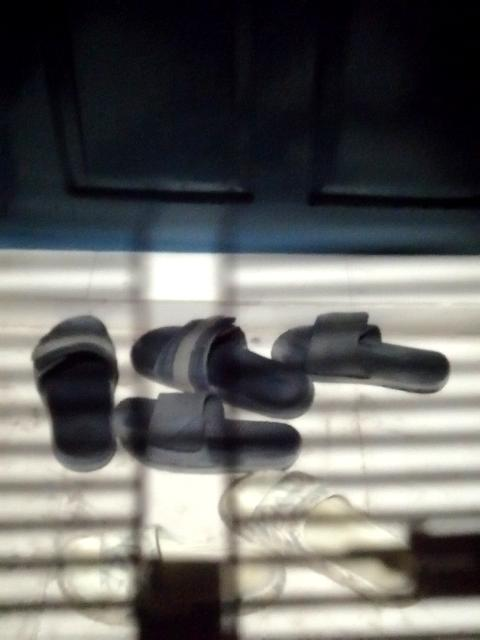sandal: (210, 439, 438, 630), (114, 304, 319, 438), (60, 516, 294, 625), (111, 382, 300, 484), (281, 318, 464, 409), (32, 312, 117, 468)
